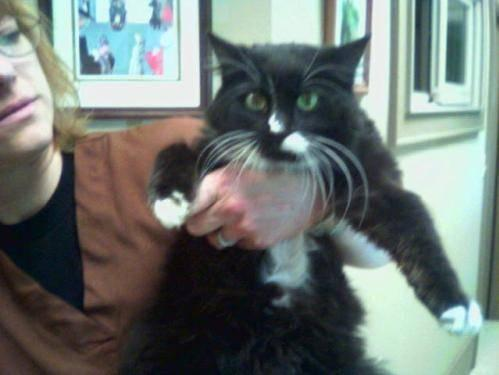cat: (149, 35, 475, 374)
